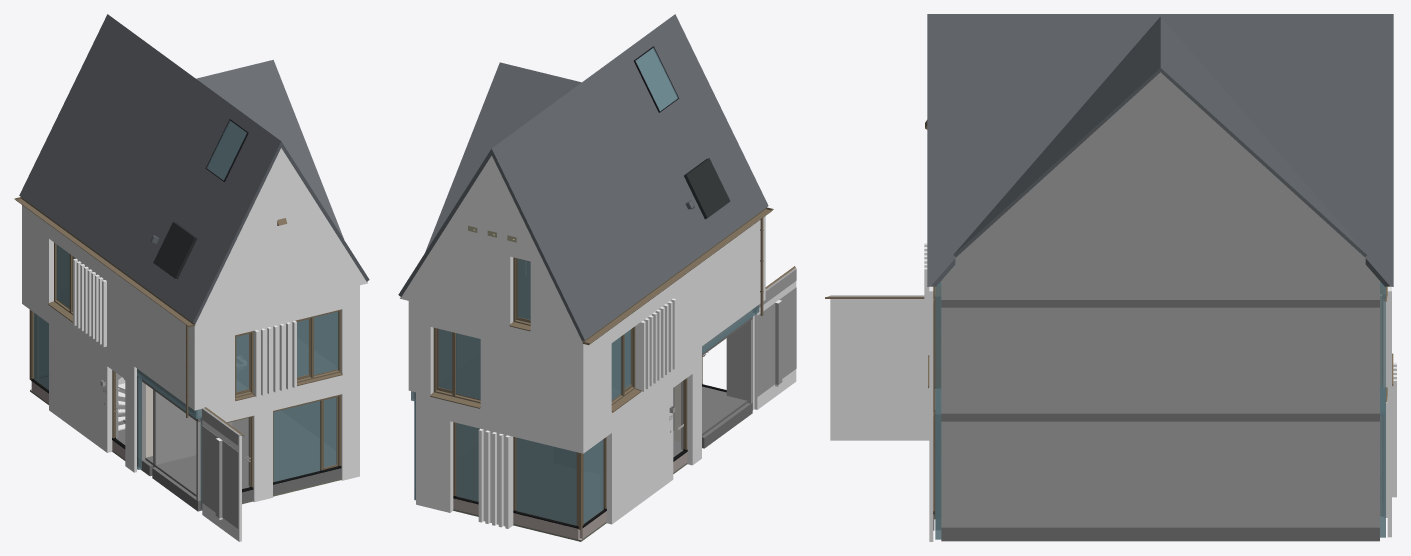
3 views of the same model, side by side, from view 1: azimuth 30°, elevation 25°; view 2: azimuth 150°, elevation 25°; view 3: azimuth 270°, elevation 25° (orthographic). The views are drawn at different scales.
Parts seen in each view (by area): view 1: Bouwnummer 96 · roof, Bouwnummer 96 · beige, Bouwnummer 96 · beige-vertical, Bouwnummer 96 · glas_helder_plaat_mix, Bouwnummer 96 · Int_Struc_Wall_Grey, Bouwnummer 96 · hout_meranti_profiel_RAL7039_mix, Bouwnummer 96 · INT_STU_WALL, Bouwnummer 96 · Floor_Grey, Bouwnummer 96 · NLRS_h4_aluminium RAL 7039_mix, Bouwnummer 96 · NLRS_h4_aluminium_RAL7021, Bouwnummer 96 · isolatie_glaswol_plaat_mix, Bouwnummer 96 · NLRS_o7_glas_pv paneel (+3 smaller); view 2: Bouwnummer 96 · roof, Bouwnummer 96 · beige, Bouwnummer 96 · beige-vertical, Bouwnummer 96 · glas_helder_plaat_mix, Bouwnummer 96 · hout_meranti_profiel_RAL7039_mix, Bouwnummer 96 · INT_STU_WALL, Bouwnummer 96 · NLRS_h4_aluminium RAL 7039_mix, Bouwnummer 96 · Int_Struc_Wall_Grey, Bouwnummer 96 · Floor_Grey, Bouwnummer 96 · NLRS_h4_aluminium_RAL7021, Bouwnummer 96 · beton_generiek_steen_mix, Bouwnummer 96 · NLRS_o7_glas_pv paneel (+3 smaller); view 3: Bouwnummer 96 · Int_Struc_Wall_Grey, Bouwnummer 96 · roof, Bouwnummer 96 · beige, Bouwnummer 96 · beton_gewapend_prefab-element_mix, Bouwnummer 96 · Floor_Grey, Bouwnummer 96 · hout_vuren_profiel_tengels_mix, Bouwnummer 96 · isolatie_glaswol_plaat_mix, Bouwnummer 96 · beige-vertical, Bouwnummer 96 · Window_Grey.
Part boxes in pixels (x1=…): Bouwnummer 96 · roof: x1=19, y1=14, x2=369, y2=323; Bouwnummer 96 · beige: x1=22, y1=148, x2=367, y2=541; Bouwnummer 96 · beige-vertical: x1=22, y1=205, x2=359, y2=455; Bouwnummer 96 · glas_helder_plaat_mix: x1=34, y1=244, x2=338, y2=481; Bouwnummer 96 · Int_Struc_Wall_Grey: x1=116, y1=370, x2=249, y2=501; Bouwnummer 96 · hout_meranti_profiel_RAL7039_mix: x1=29, y1=242, x2=341, y2=487; Bouwnummer 96 · INT_STU_WALL: x1=202, y1=426, x2=238, y2=529; Bouwnummer 96 · Floor_Grey: x1=116, y1=414, x2=249, y2=511; Bouwnummer 96 · NLRS_h4_aluminium RAL 7039_mix: x1=14, y1=197, x2=342, y2=436; Bouwnummer 96 · NLRS_h4_aluminium_RAL7021: x1=153, y1=222, x2=197, y2=279; Bouwnummer 96 · isolatie_glaswol_plaat_mix: x1=137, y1=369, x2=202, y2=509; Bouwnummer 96 · NLRS_o7_glas_pv paneel: x1=206, y1=120, x2=246, y2=180; Bouwnummer 96 · roof: x1=398, y1=14, x2=768, y2=341; Bouwnummer 96 · beige: x1=400, y1=155, x2=796, y2=528; Bouwnummer 96 · beige-vertical: x1=408, y1=216, x2=796, y2=453; Bouwnummer 96 · glas_helder_plaat_mix: x1=438, y1=258, x2=630, y2=525; Bouwnummer 96 · hout_meranti_profiel_RAL7039_mix: x1=433, y1=257, x2=702, y2=529; Bouwnummer 96 · INT_STU_WALL: x1=757, y1=287, x2=796, y2=396; Bouwnummer 96 · NLRS_h4_aluminium RAL 7039_mix: x1=430, y1=207, x2=795, y2=525; Bouwnummer 96 · Int_Struc_Wall_Grey: x1=414, y1=310, x2=752, y2=449; Bouwnummer 96 · Floor_Grey: x1=673, y1=386, x2=752, y2=457; Bouwnummer 96 · NLRS_h4_aluminium_RAL7021: x1=684, y1=158, x2=730, y2=218; Bouwnummer 96 · beton_generiek_steen_mix: x1=453, y1=452, x2=687, y2=540; Bouwnummer 96 · NLRS_o7_glas_pv paneel: x1=635, y1=47, x2=677, y2=111; Bouwnummer 96 · Int_Struc_Wall_Grey: x1=941, y1=83, x2=1379, y2=527; Bouwnummer 96 · roof: x1=927, y1=14, x2=1393, y2=286; Bouwnummer 96 · beige: x1=830, y1=243, x2=1396, y2=541; Bouwnummer 96 · beton_gewapend_prefab-element_mix: x1=933, y1=300, x2=1379, y2=528; Bouwnummer 96 · Floor_Grey: x1=941, y1=527, x2=1379, y2=541; Bouwnummer 96 · hout_vuren_profiel_tengels_mix: x1=940, y1=72, x2=1380, y2=281; Bouwnummer 96 · isolatie_glaswol_plaat_mix: x1=935, y1=282, x2=1385, y2=539; Bouwnummer 96 · beige-vertical: x1=830, y1=291, x2=1391, y2=425; Bouwnummer 96 · Window_Grey: x1=933, y1=286, x2=1387, y2=519.
Size of the model in its own units: 6.54 by 12.22 by 13.29.
